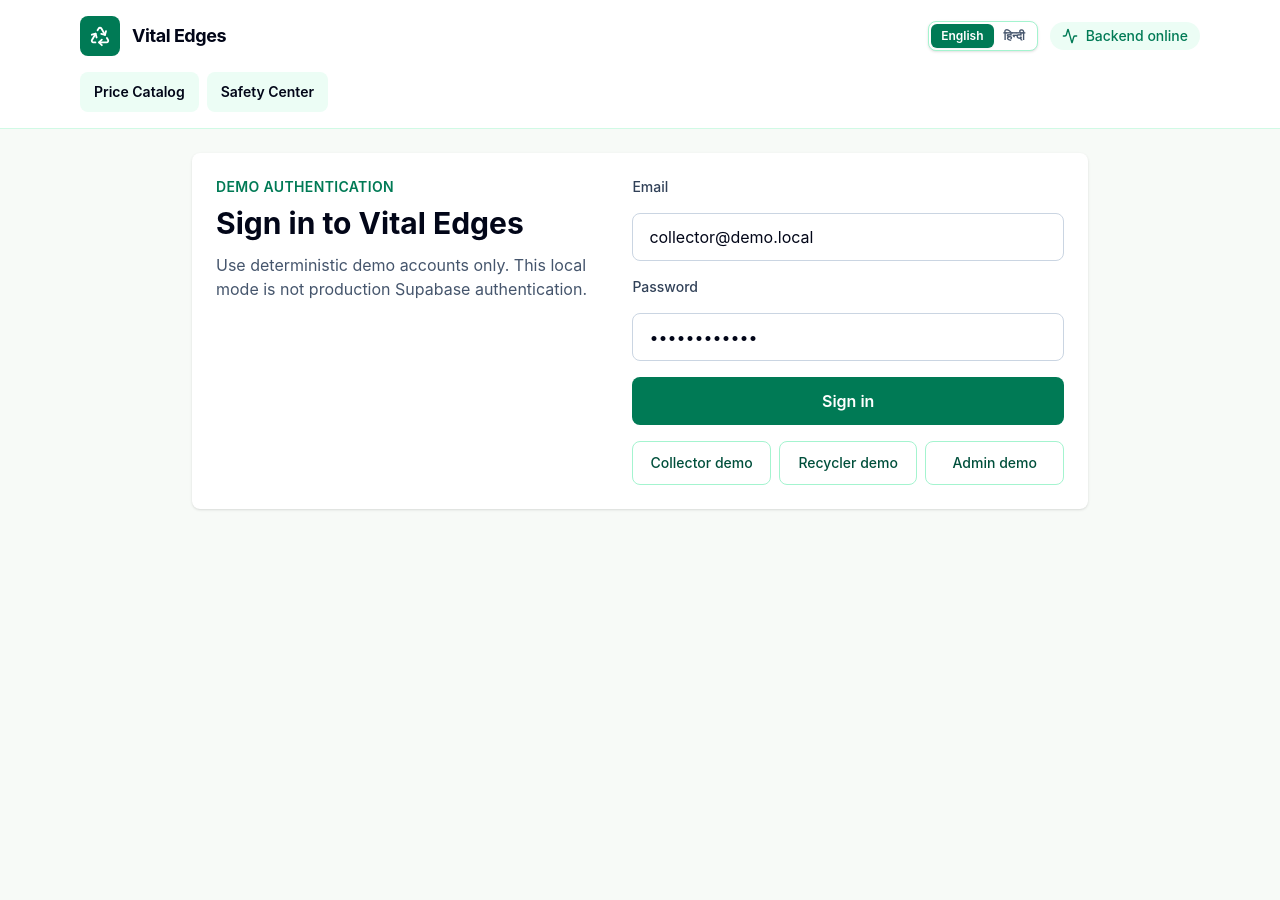
Phase 1 app shell › collector role reaches collector dashboard
Click the button "Sign in" at x=848, y=401, box x1=632 y1=377 x2=1064 y2=425
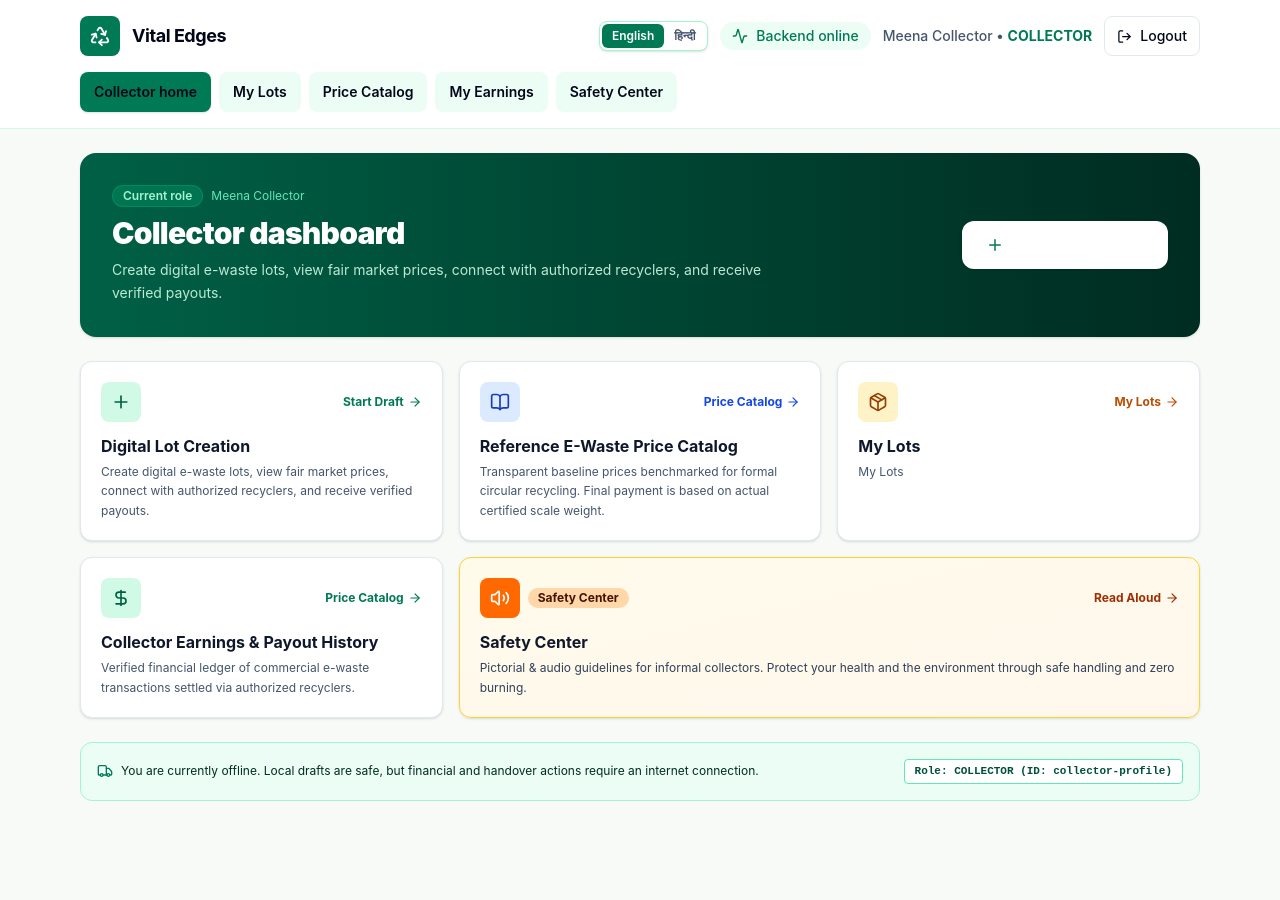
Expected: the heading "Collector dashboard" is shown, x1=112 y1=215 x2=404 y2=251
